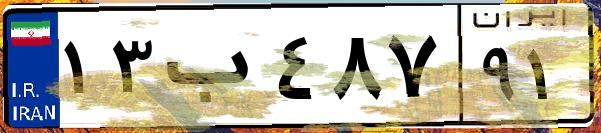1: (57, 26, 110, 100), (525, 38, 570, 115)
3: (110, 28, 158, 98)
4: (270, 28, 330, 110)
7: (385, 28, 445, 110)
8: (330, 28, 385, 110)
9: (475, 38, 525, 113)
ب: (158, 20, 270, 120)
